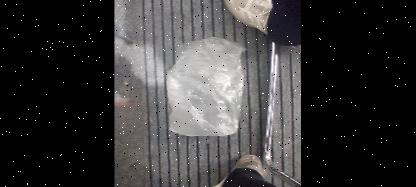Others: (166, 36, 244, 135)
